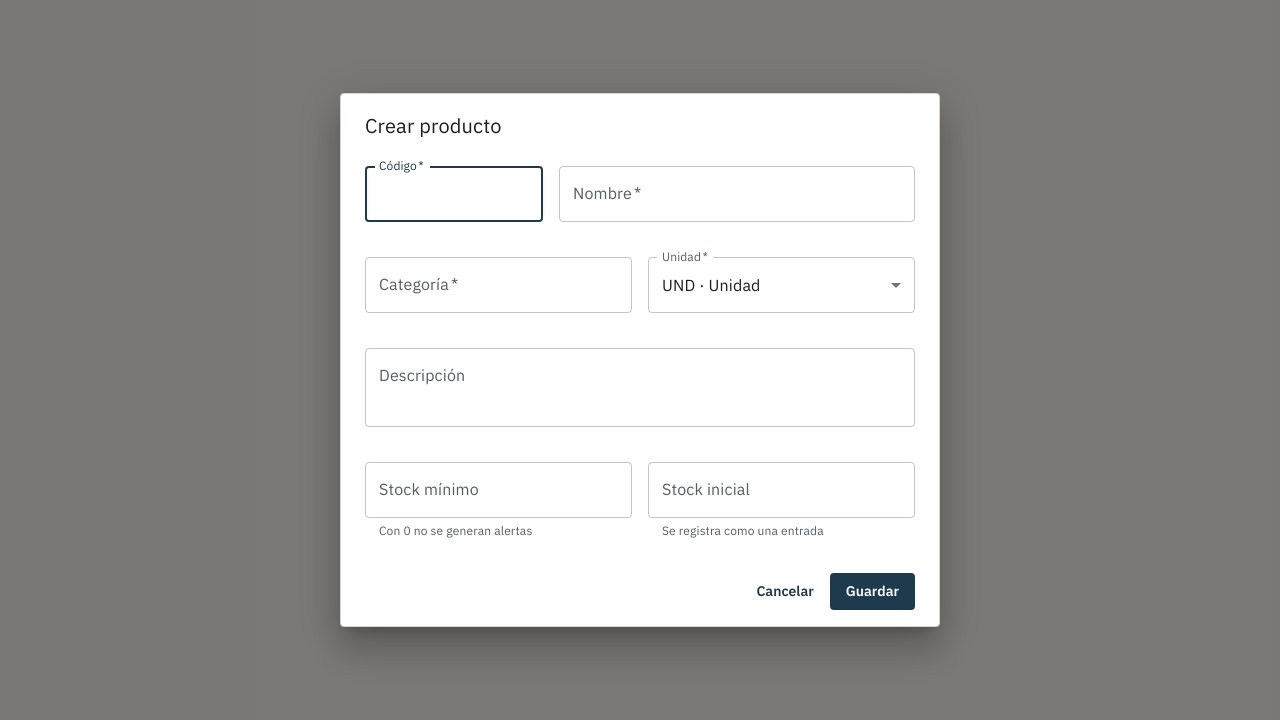
Test: ProductoForm › muestra errores en español y no envía datos inválidos
Type "ab" into the field labelled "Nombre *" at (737, 194), box [559,166,915,222]
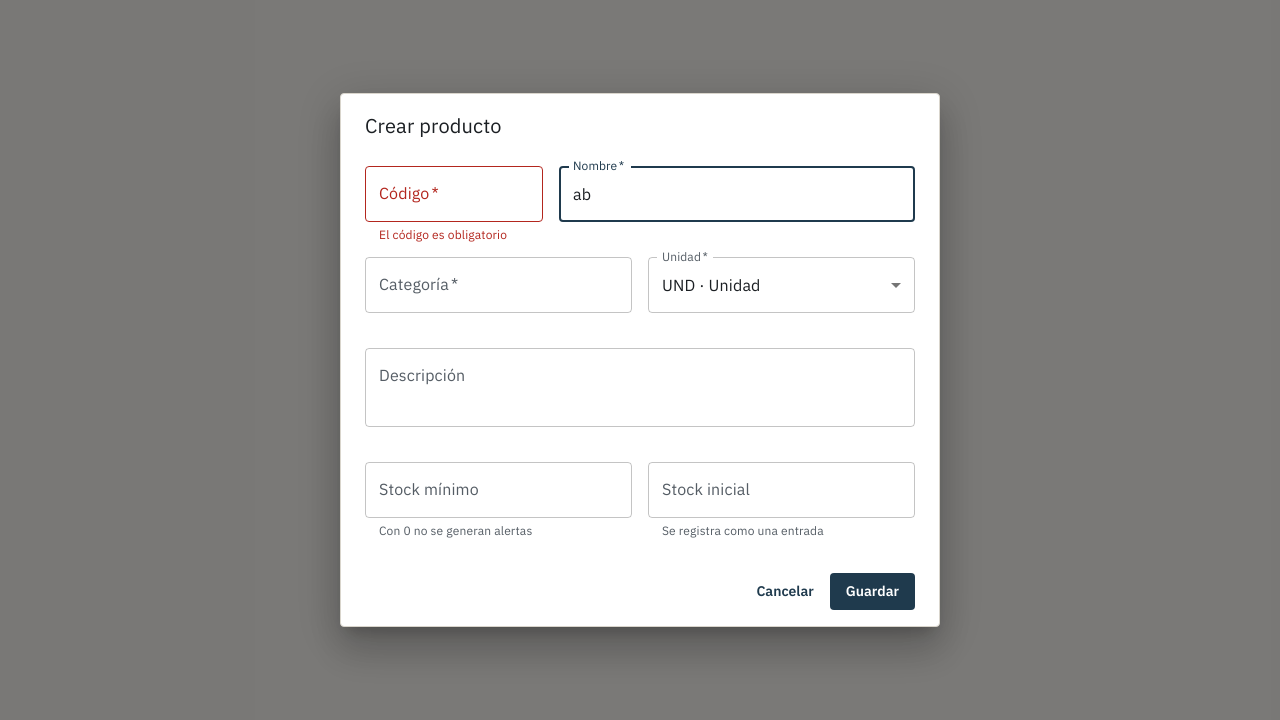
Click the button "Guardar" at (872, 591), box [830,573,915,610]
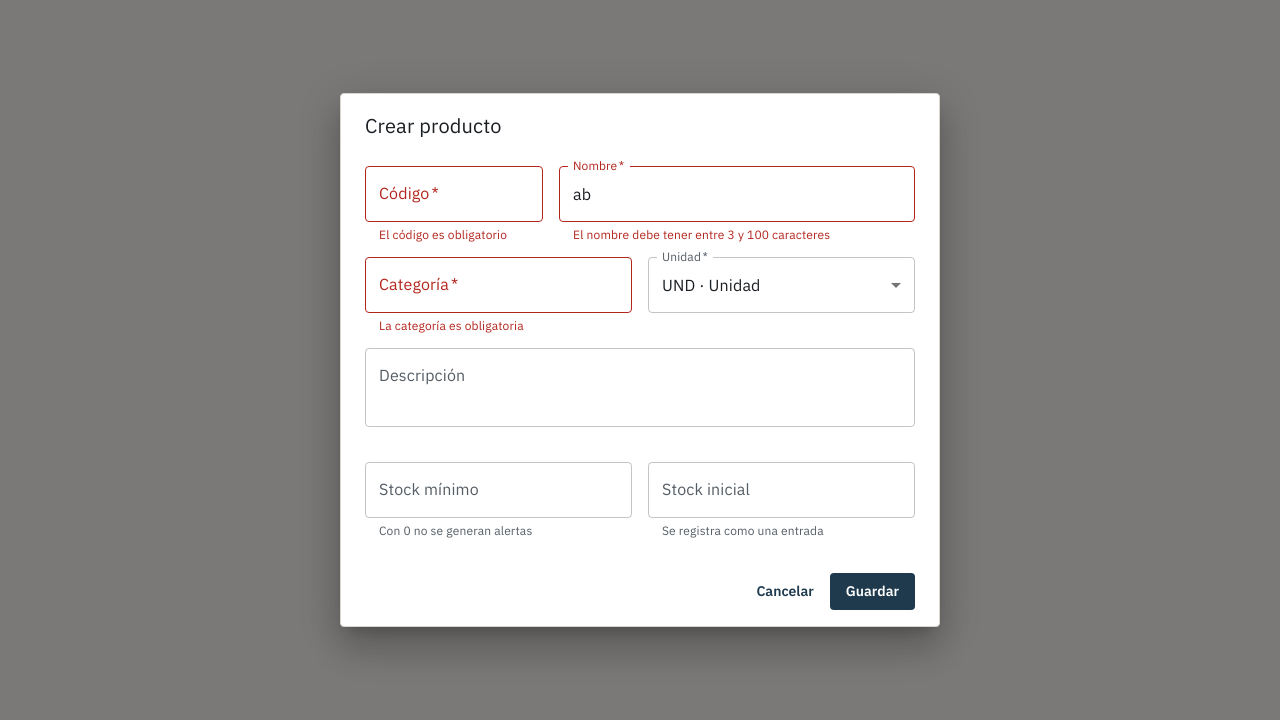
Expected: the text "El código es obligatorio" is shown, [379,225,529,245]
Expected: the text "El nombre debe tener entre 3 y 100 caracteres" is shown, [573,227,830,242]
Expected: the text "La categoría es obligatoria" is shown, [379,318,524,333]
